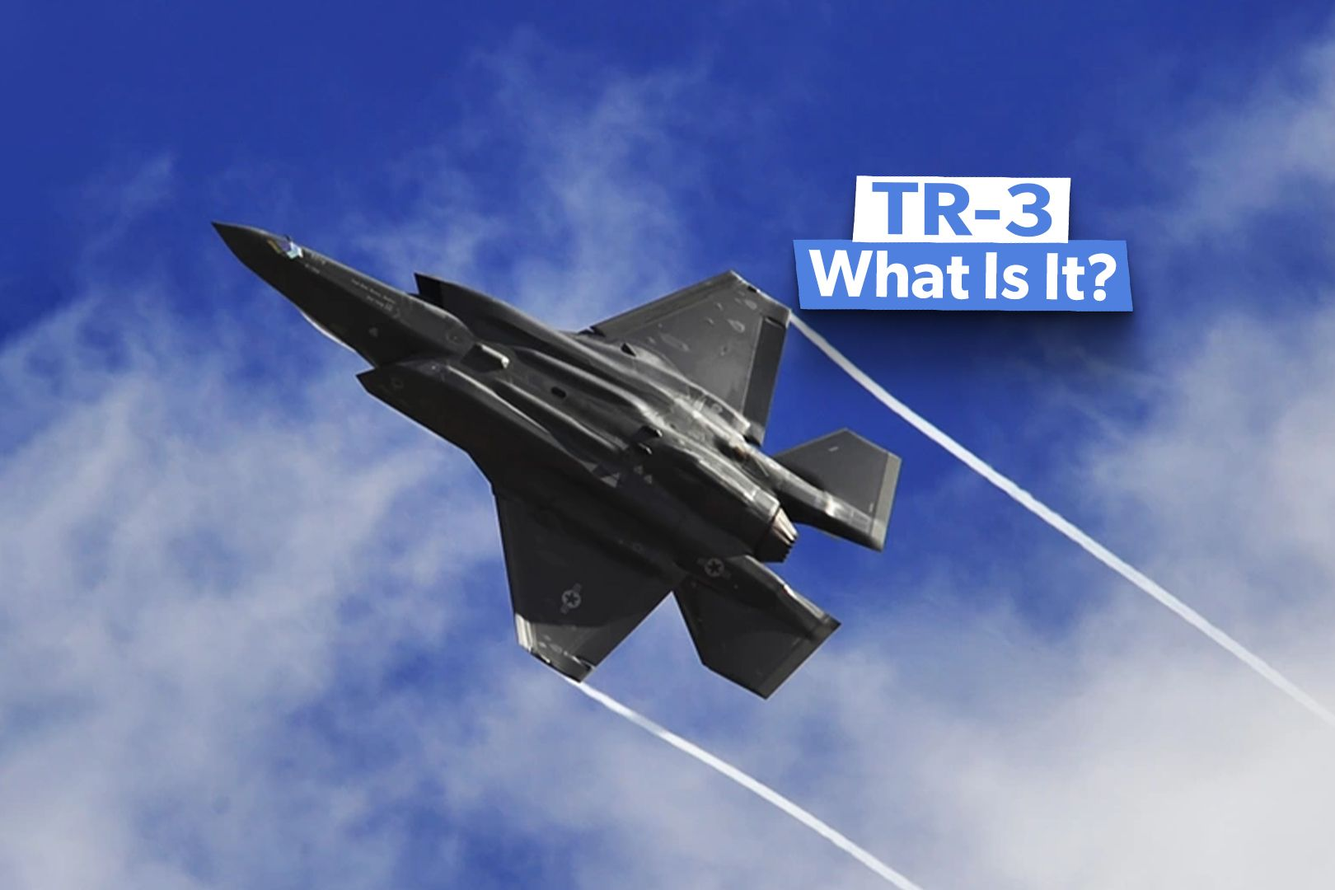F35: (200, 198, 915, 714)
